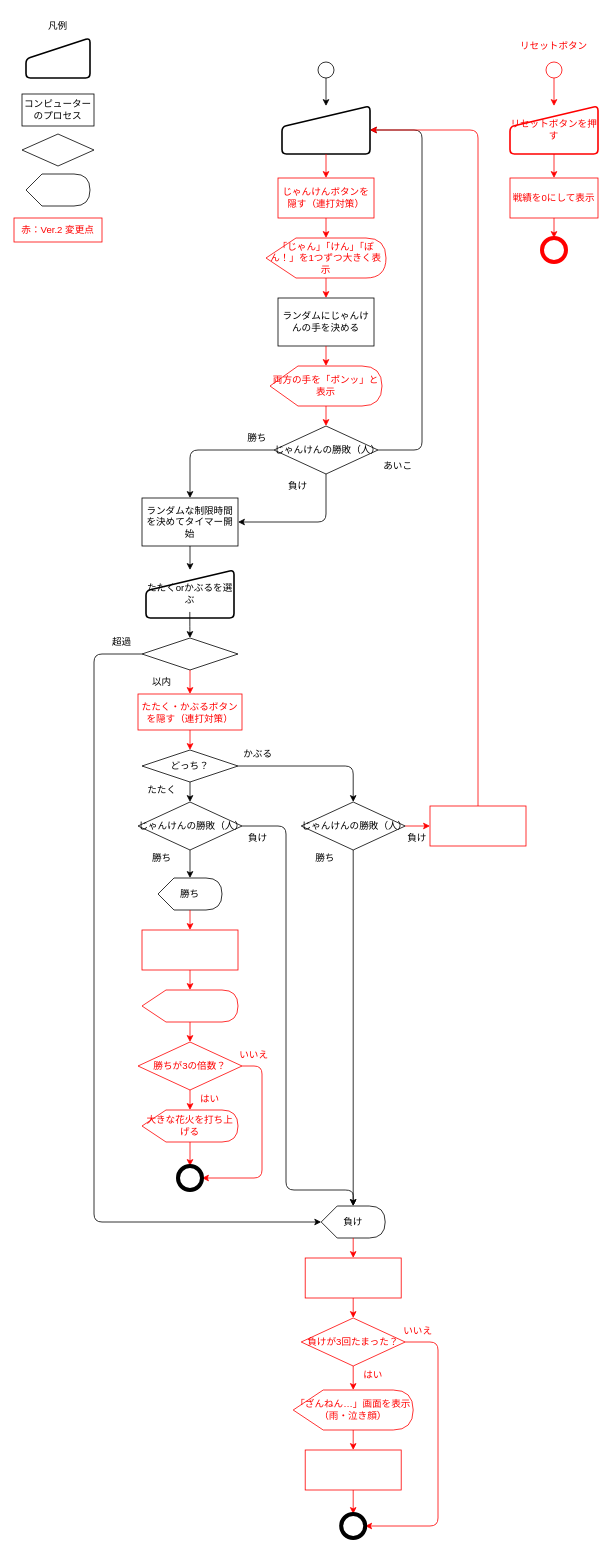
Image size: 613x1554. Some labels were removed from this diagram. The shapes that lost their labels are listed below. From the top down, each one's centre as x and y in pixels, then its label:
At (x=57, y=57): "人のプロセス".
At (x=57, y=149): "分岐".
At (x=325, y=129): "じゃんけんの手を選ぶ".
At (x=57, y=189): "画面描画".
At (x=189, y=653): "制限時間内に選べた？".
At (x=477, y=825): "セーフを+1して戦績を表示".
At (x=189, y=949): "勝ちを+1して戦績を表示".
At (x=189, y=1005): "紙吹雪を降らせる".
At (x=352, y=1277): "負けを+1して戦績を表示".
At (x=352, y=1469): "3.5秒後に戦績を0にリセット".
